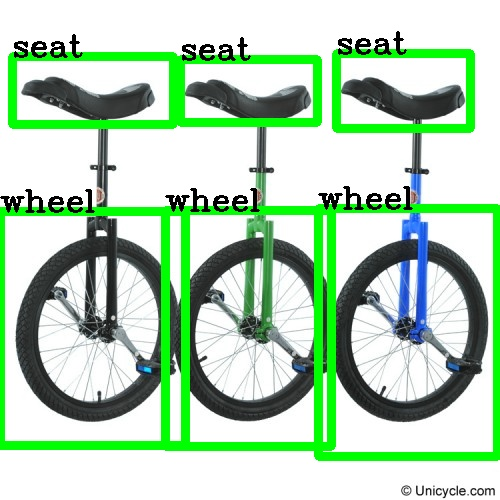seat: (12, 56, 173, 124), (336, 53, 470, 128), (180, 59, 317, 122)
wheel: (318, 208, 497, 456), (0, 211, 185, 445), (165, 210, 331, 446)
